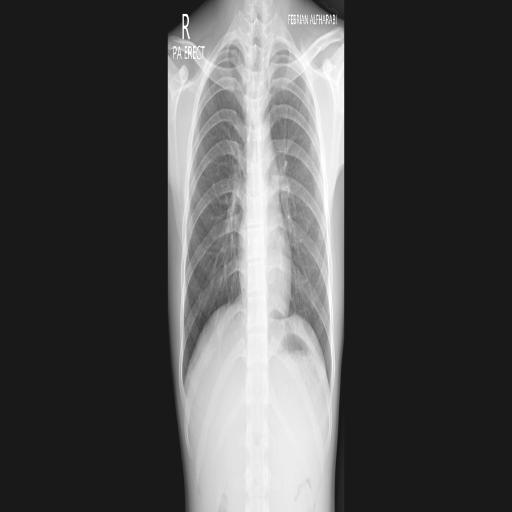normal: (179, 31, 336, 403)
